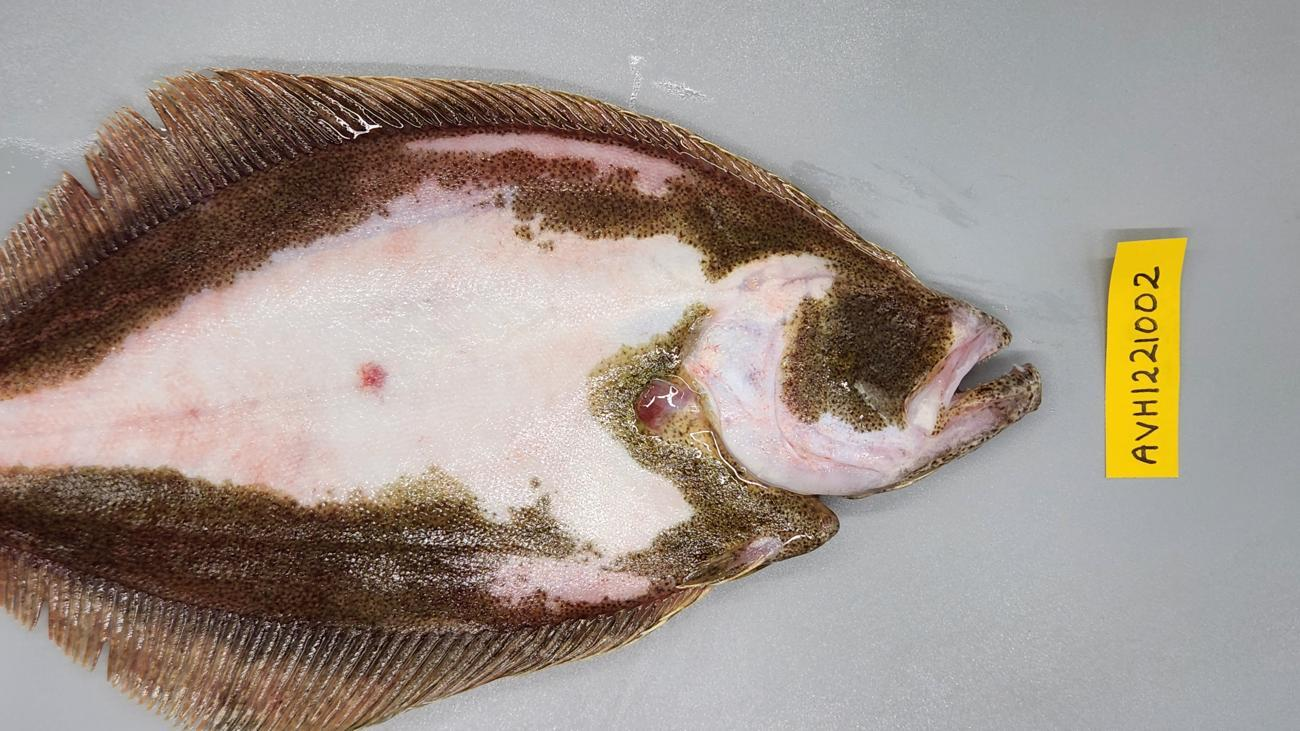VIDYU: (340, 356, 385, 393)
VIFAH: (4, 542, 704, 730)
